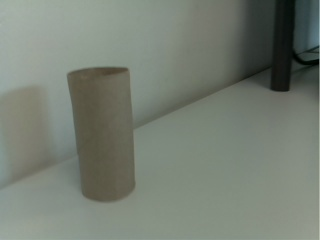rollo papel: (65, 65, 140, 204)
